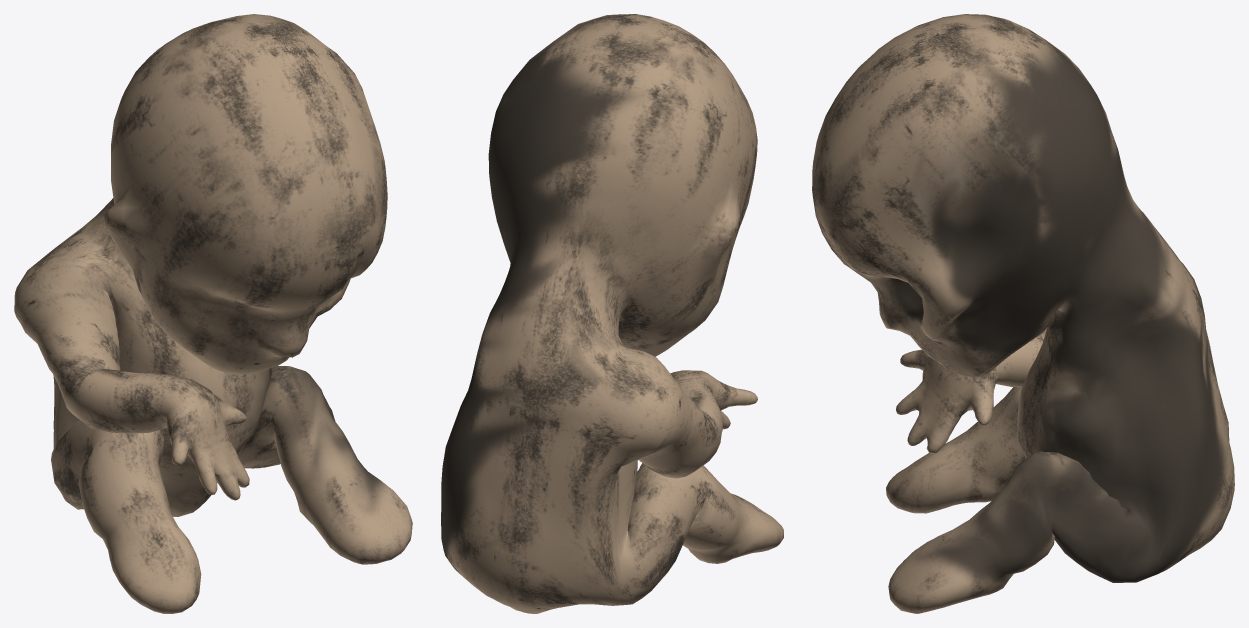
File: Base (Posed) 02.fbx
The picture shows the model from 3 angles, left to right: view 1: azimuth 30°, elevation 25°; view 2: azimuth 150°, elevation 25°; view 3: azimuth 270°, elevation 25°; orthographic projection. The views are drawn at different scales.
Visible parts, largest first — view 1: PM3D_Merged_PM3D_Sphere3D_18; view 2: PM3D_Merged_PM3D_Sphere3D_18; view 3: PM3D_Merged_PM3D_Sphere3D_18.
Part boxes in pixels (x1,y1,x2,y2): PM3D_Merged_PM3D_Sphere3D_18: (14,14,412,613); PM3D_Merged_PM3D_Sphere3D_18: (441,14,783,613); PM3D_Merged_PM3D_Sphere3D_18: (812,14,1234,613).
Size of the model in its own units: 19.03 by 34.51 by 24.48.
